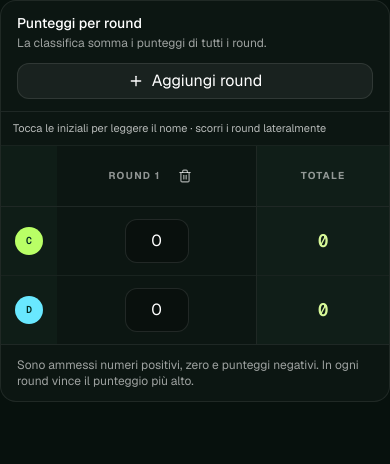
Test: ScoreboardTable › accorpa posizione e partecipante per lasciare spazio ai round su mobile
expect the column heading named "1. Carola" is shown: met, box [1,206,57,275]
expect the column heading "Totale" is shown: met, box [257,146,389,206]
Step 1. Click the button named "Mostra nome di Carola" → (29, 240), box [9,220,49,260]
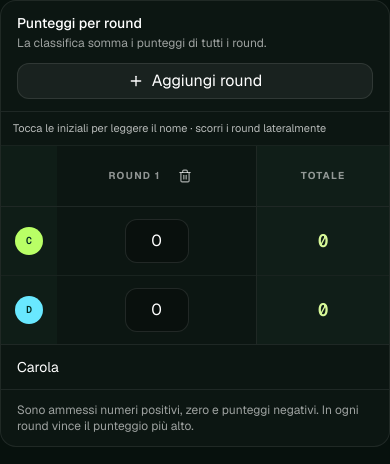
expect the message reads "Carola": met, box [17,358,59,376]
Step 2. Click the button named "Mostra nome di Carola" → (29, 240), box [9,220,49,260]
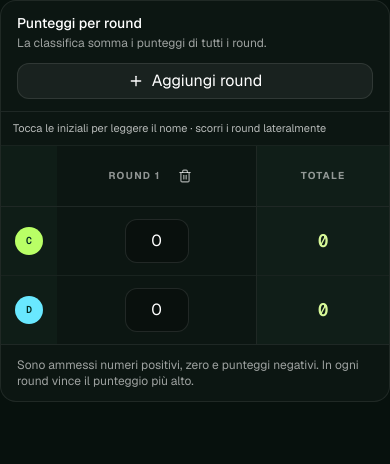
expect the message "Carola" is gone: met
